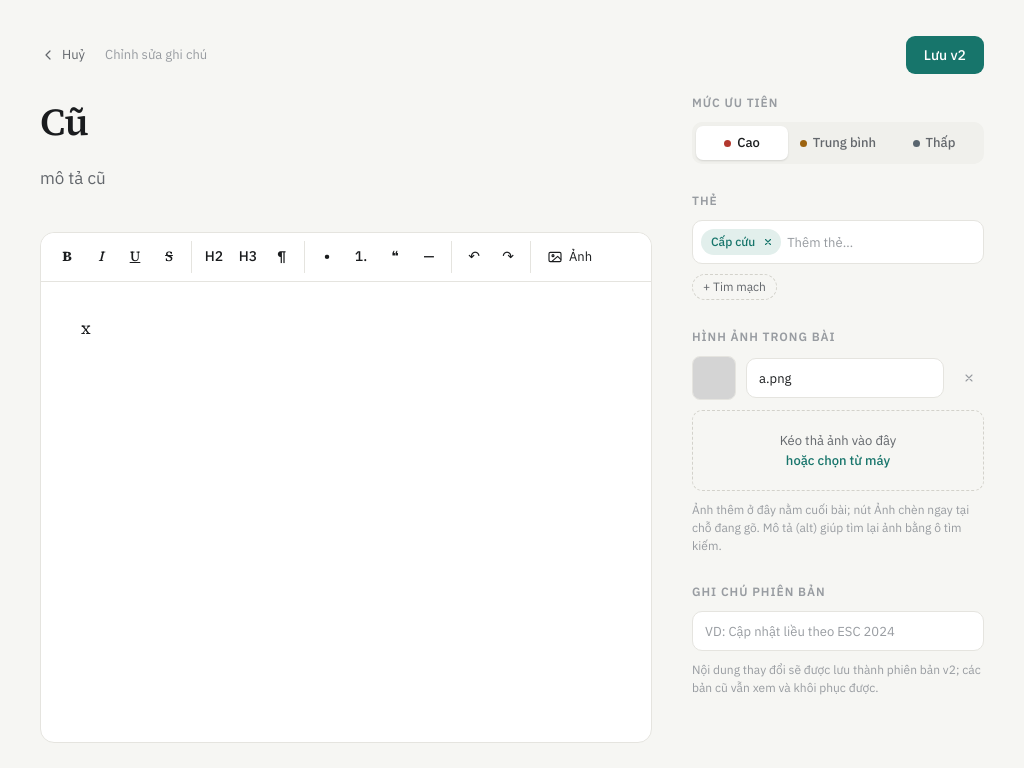
it: EditorClient › offers the other tags as suggestions and adds one on click
Click the button "+ Tim mạch". click: (734, 287)
box: [692,274,777,300]
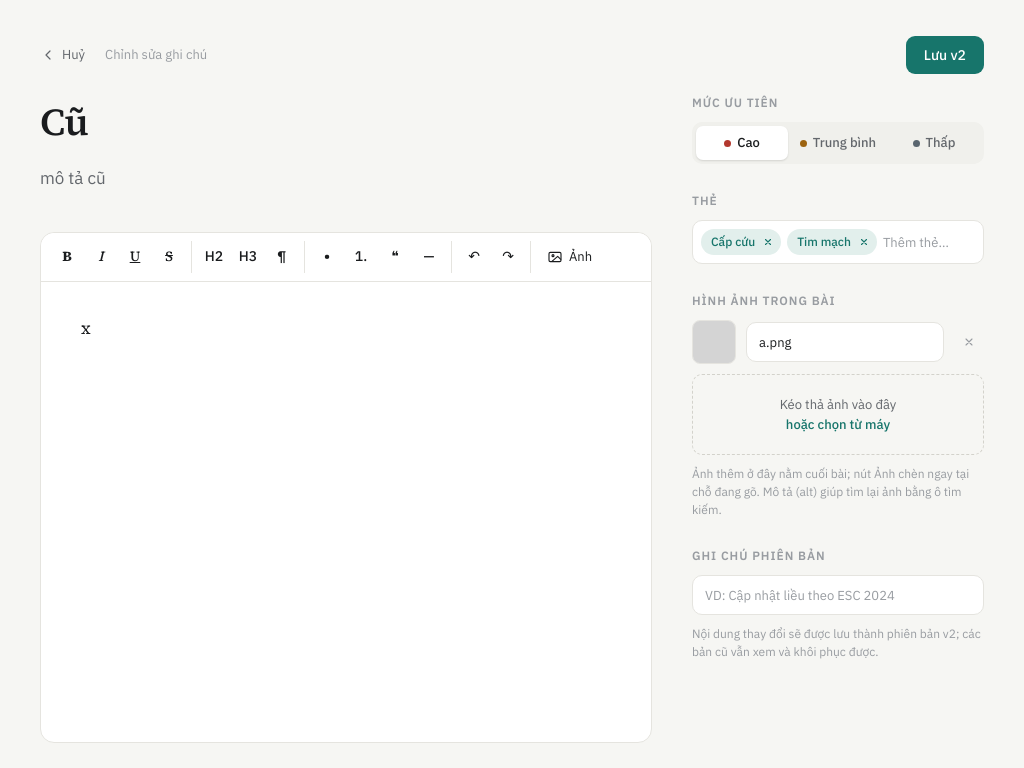
Expected: the button named "Gỡ thẻ Tim mạch" is shown, [855,233,873,251]
